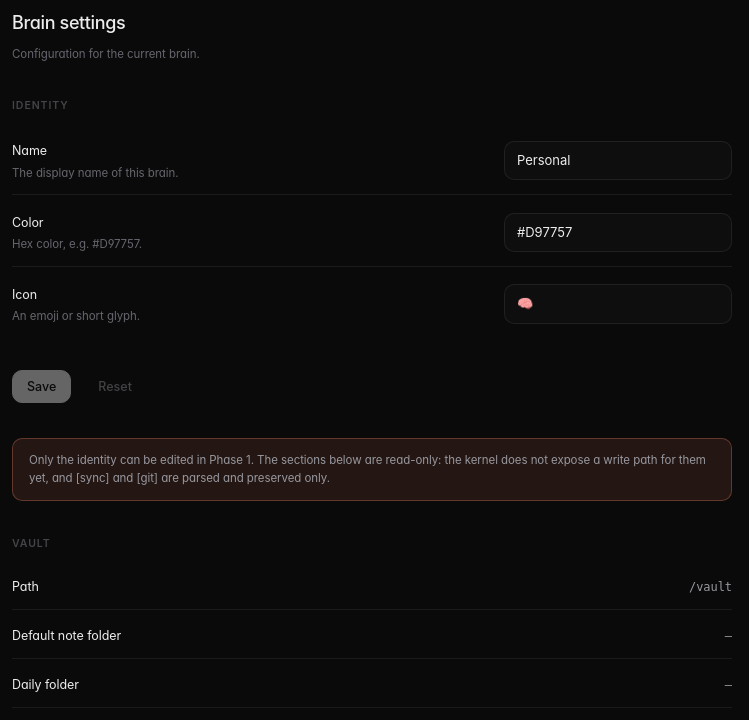
Scenario: BrainSettings › saves only the changed fields through brain.update
Check: the button "Save" is disabled, box [12,370,71,403]
Replace the text in the field labelled "Name" with "Work" at (618, 161), box [504,141,732,180]
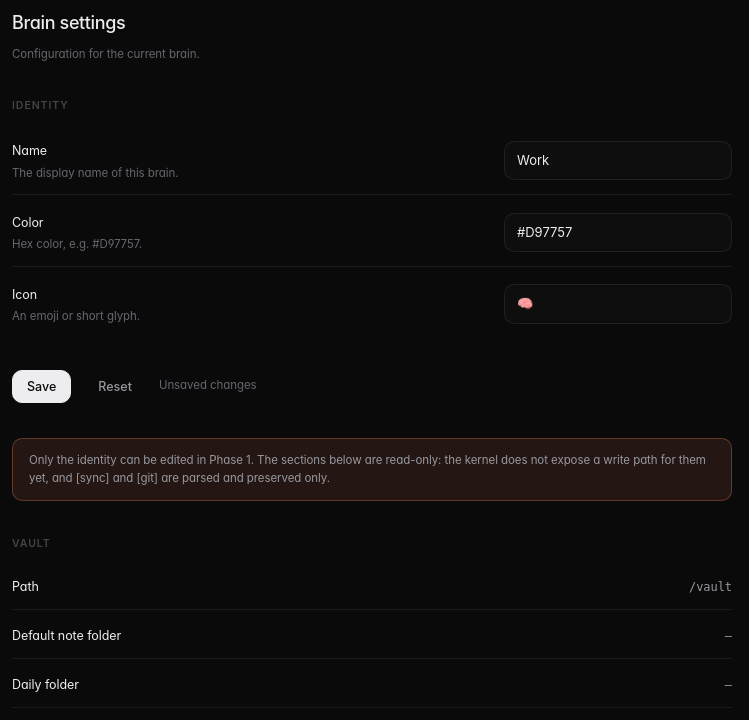
Check: the button "Save" is enabled
Click the button "Save" at (42, 386), box [12,370,71,403]
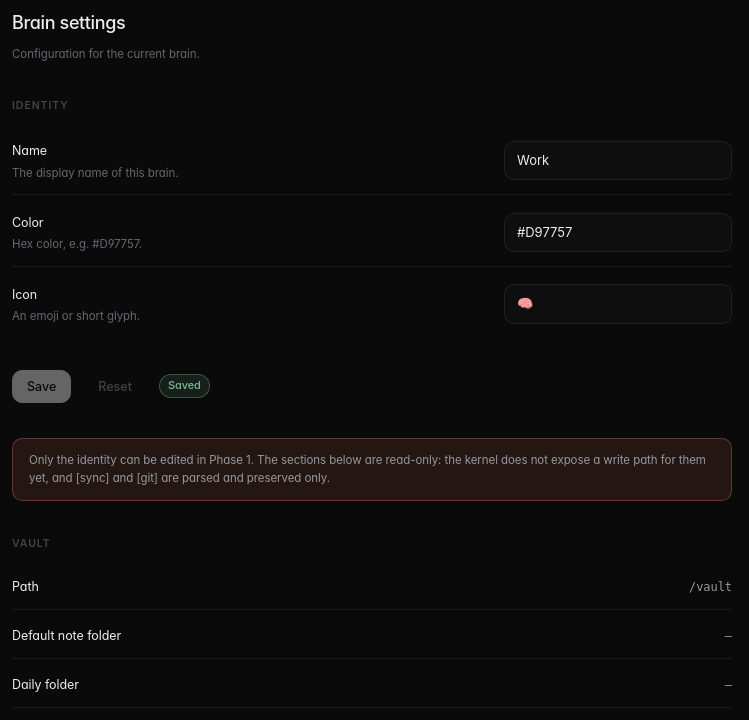
Check: the text "Saved" is shown, box [159,374,210,398]
Check: the button "Save" is disabled, box [12,370,71,403]
